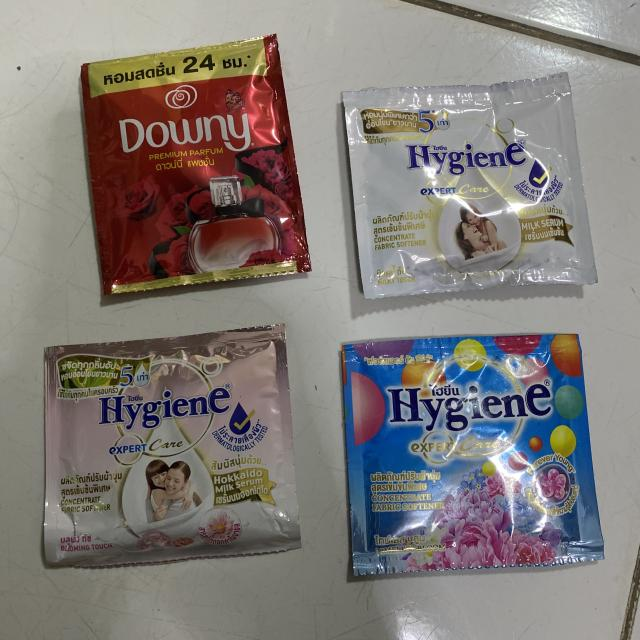plastik: (342, 335, 604, 575), (44, 325, 300, 566), (81, 35, 310, 295), (342, 72, 598, 299)
